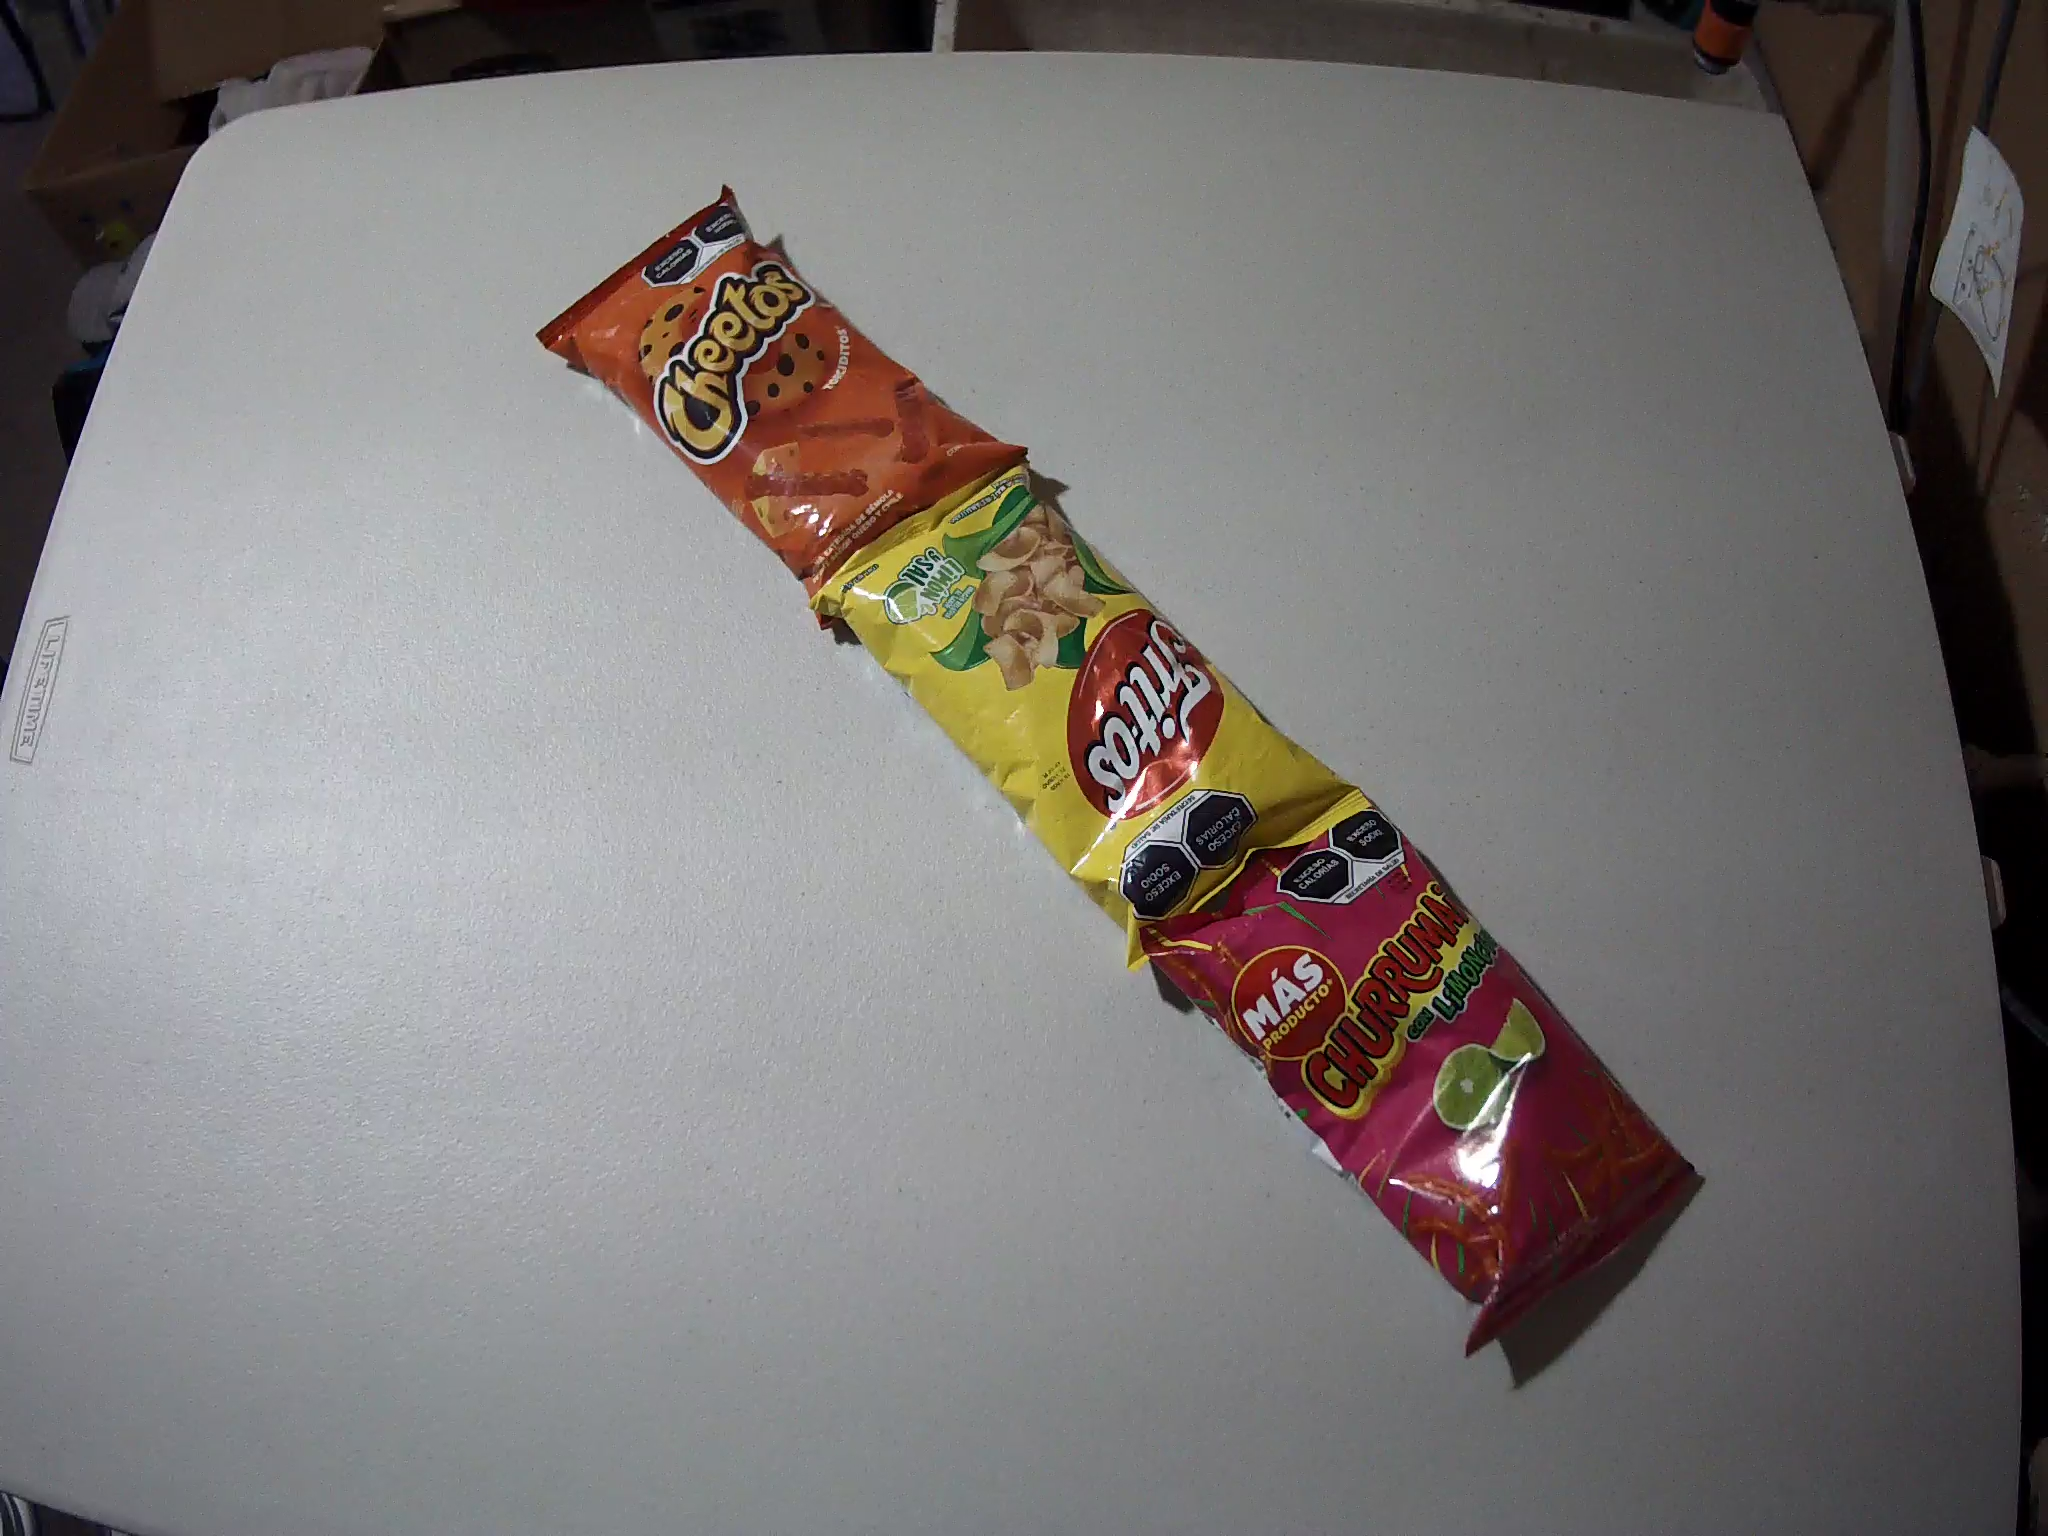CheetosTorciditos_55_F: (535, 182, 1039, 591)
Churrumais_70_F: (1145, 812, 1701, 1355)
FritosSalLimon_65_F: (806, 458, 1372, 920)
